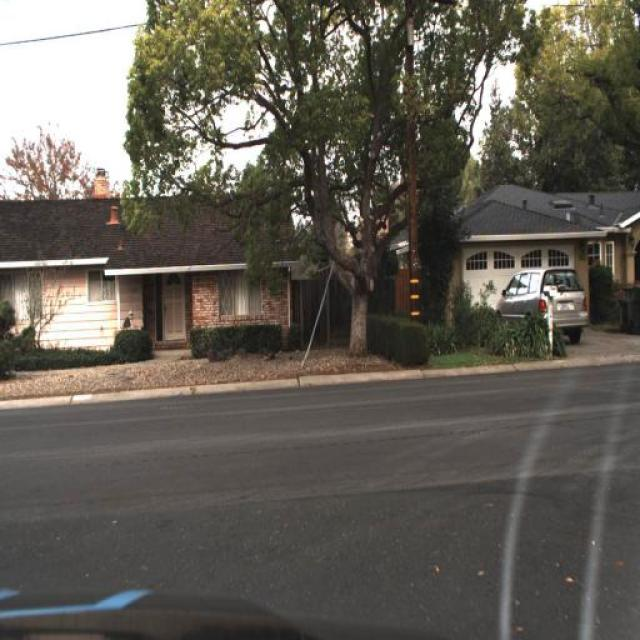car: (490, 260, 588, 344)
